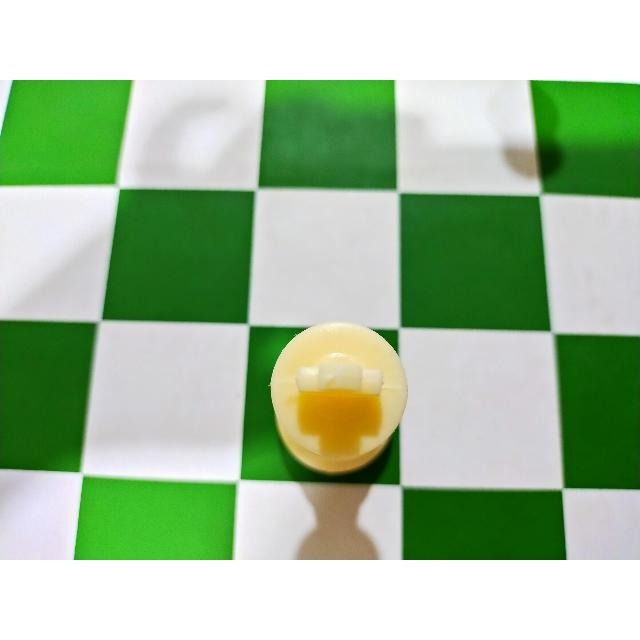white-king: (258, 313, 413, 489)
